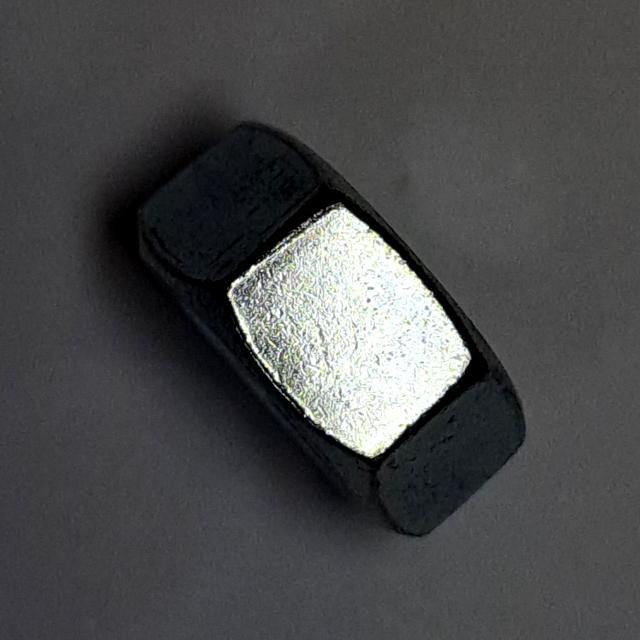Side_Excellent: (126, 107, 541, 549)
